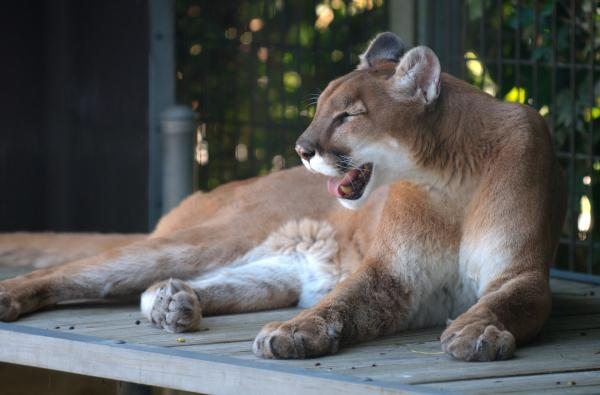OncaParda: (5, 29, 575, 367)
